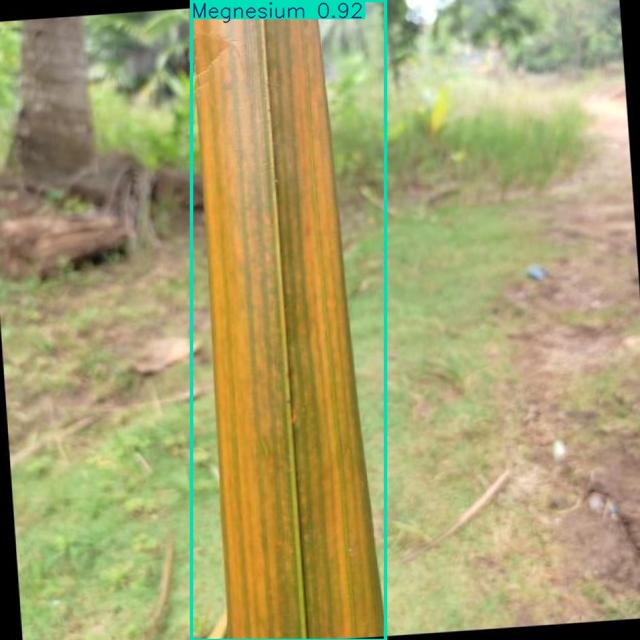Megnesium: (191, 1, 386, 640)
